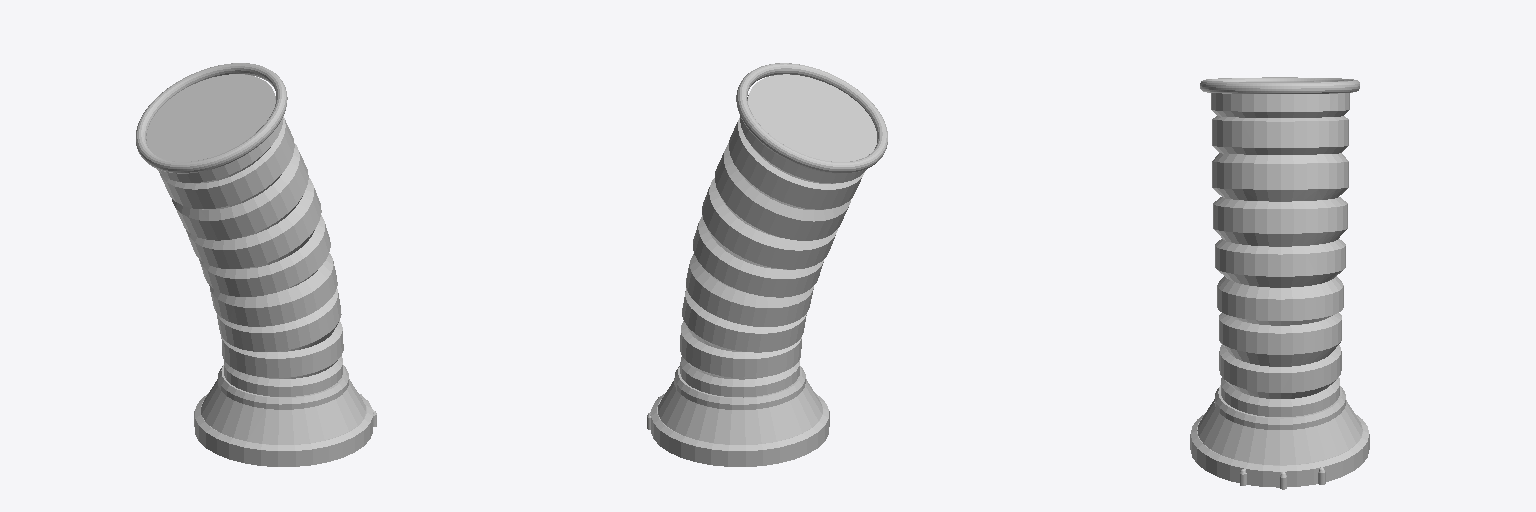
File: pata_delantera.obj
3 views of the same model, side by side, from view 1: azimuth 30°, elevation 25°; view 2: azimuth 150°, elevation 25°; view 3: azimuth 270°, elevation 25° (orthographic).
Parts seen in each view (by area): view 1: C_rculo_009_C_rculo_010; view 2: C_rculo_009_C_rculo_010; view 3: C_rculo_009_C_rculo_010.
Boxes of the visible parts, x1,y1,x2,y2 form: C_rculo_009_C_rculo_010: [136, 63, 376, 466]; C_rculo_009_C_rculo_010: [647, 63, 887, 466]; C_rculo_009_C_rculo_010: [1190, 77, 1369, 489].
Size of the model in its own units: 1.45 by 2.29 by 1.03.